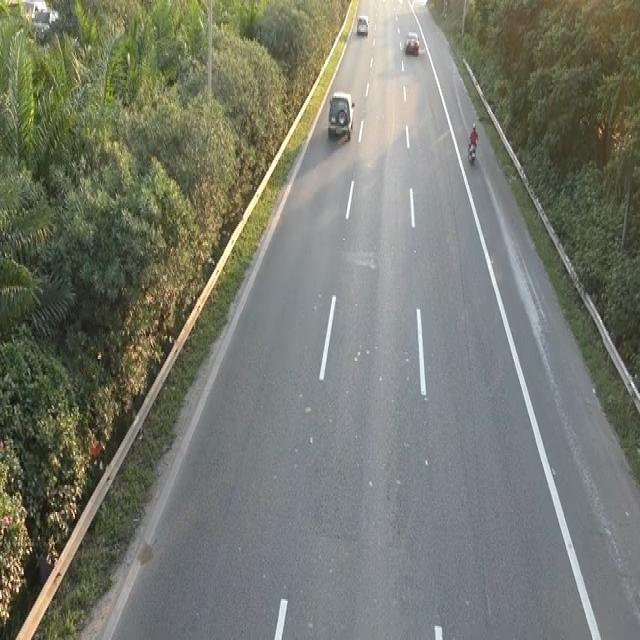bus: (403, 29, 420, 55), (355, 12, 369, 36)
car: (325, 87, 357, 148)
minibus: (466, 135, 478, 165)
